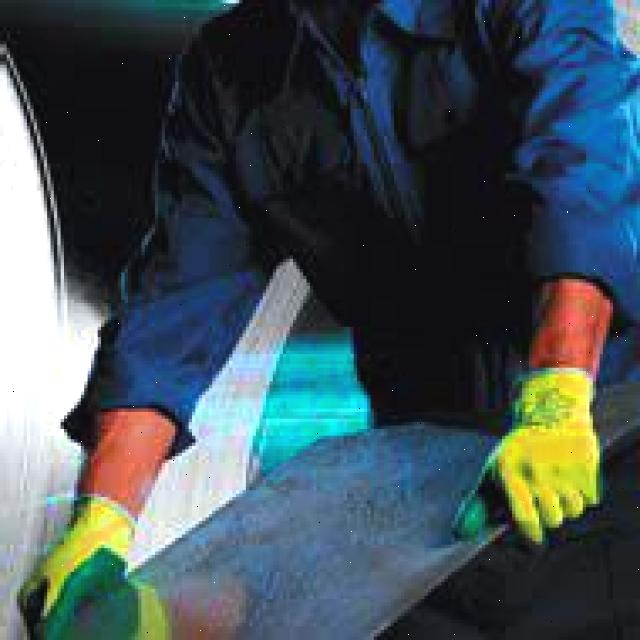Gloves: (454, 368, 600, 543), (20, 498, 135, 637)
Overall Suit: (99, 0, 640, 424)
